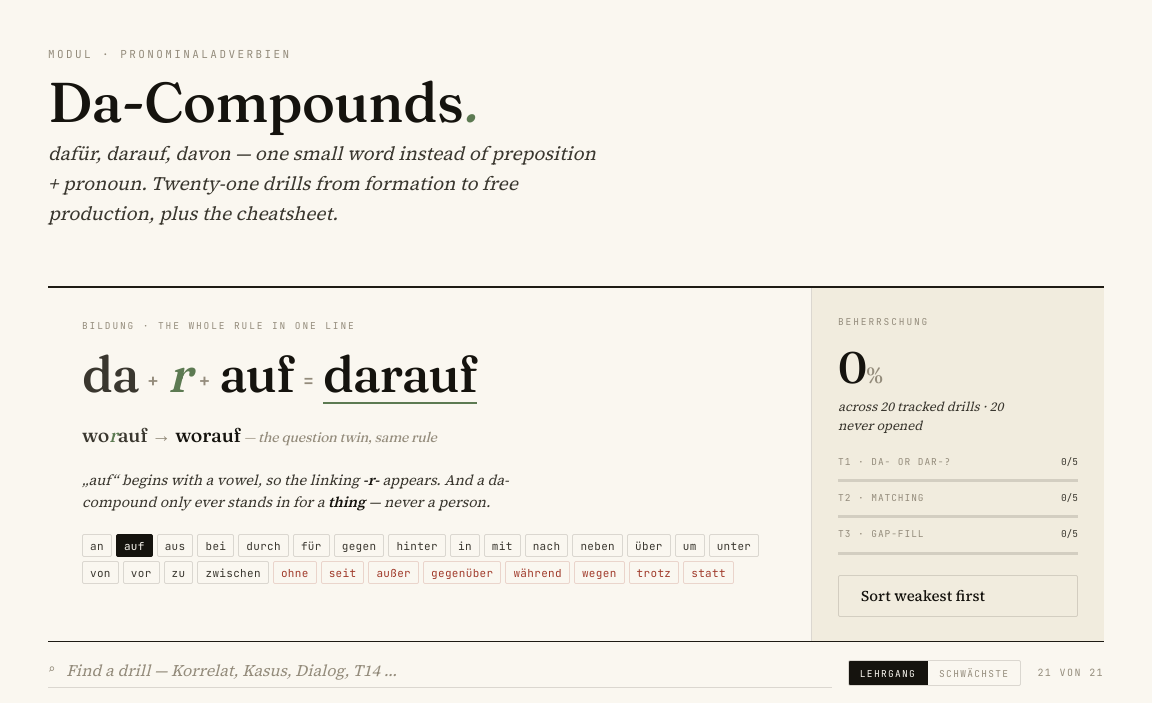
it: DaCompoundsHome › the search box filters rows by title/German/description/code and updates the count
Expected: the text with class "dac-count" reads "21 von 21", [1037,666,1104,678]
Type "Homograph" into the field labelled "⌕" at (448, 670), box [64,658,832,682]
(page scrolled)
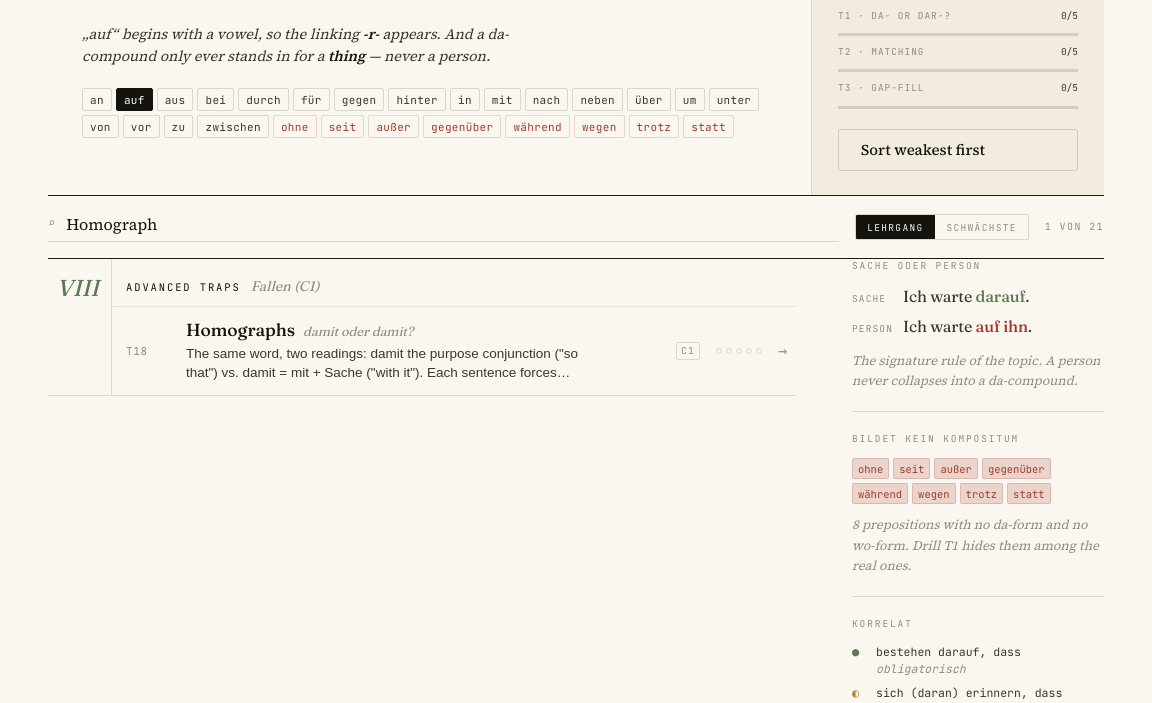
Expected: the button with class "dac-lrow" shows "Homographs", [112,306,796,395]
Result: the text with class "dac-count" reads "1 von 21" at [1045,220,1104,232]
Result: the number of buttons with class "dac-lrow" is 1 at [112,306,796,395]
